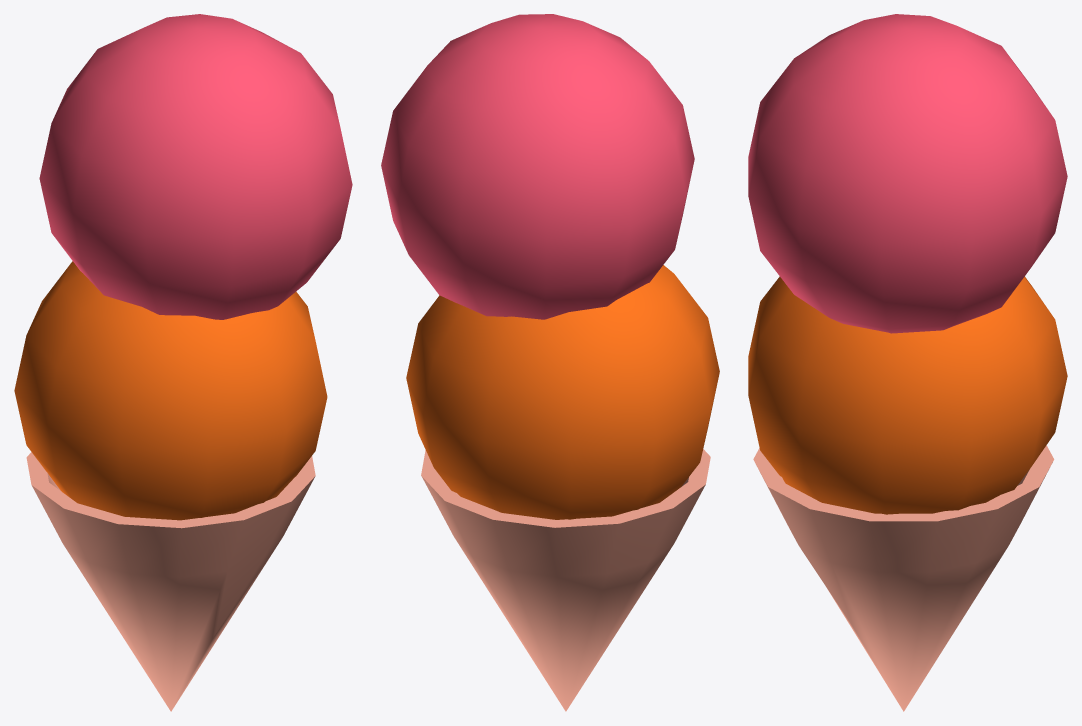
Rendered from 004_Candy_Cone_02.fbx.
3 renders of one model, left to right at view 1: azimuth 30°, elevation 25°; view 2: azimuth 150°, elevation 25°; view 3: azimuth 270°, elevation 25°, orthographic. The views are drawn at different scales.
Parts seen in each view (by area): view 1: Sphere.062, Sphere.061, Cone.006; view 2: Sphere.062, Sphere.061, Cone.006; view 3: Sphere.062, Sphere.061, Cone.006.
Boxes of the visible parts, <box> form: Sphere.062: <box>39,14,352,319</box>; Sphere.061: <box>14,261,327,520</box>; Cone.006: <box>26,452,315,711</box>; Sphere.062: <box>381,14,694,319</box>; Sphere.061: <box>406,265,719,519</box>; Cone.006: <box>421,449,710,711</box>; Sphere.062: <box>748,14,1067,333</box>; Sphere.061: <box>748,276,1067,514</box>; Cone.006: <box>753,445,1054,711</box>.
Size of the model in its own units: 41.77 by 91.07 by 37.85.
